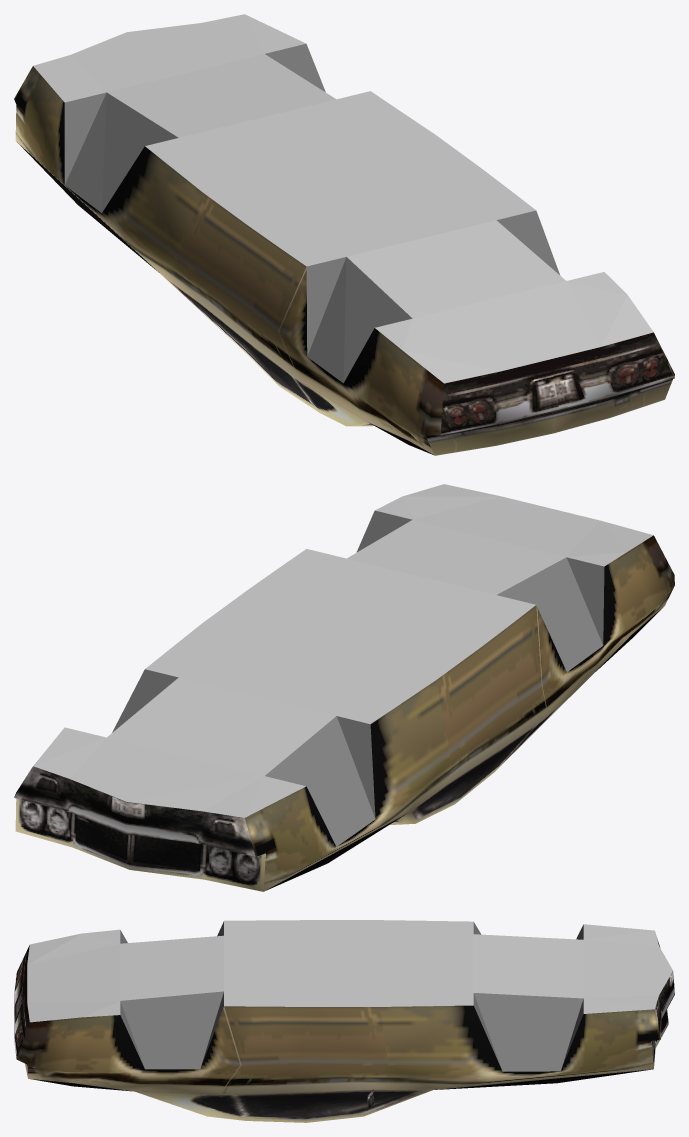
File: CHICAGO_model12_clean.obj
The picture shows the model from 3 angles, top to bottom: view 1: azimuth 30°, elevation 25°; view 2: azimuth 150°, elevation 25°; view 3: azimuth 270°, elevation 25°; orthographic projection. The views are drawn at different scales.
Visible parts, largest first — view 1: CHICAGO_model12_clean; view 2: CHICAGO_model12_clean; view 3: CHICAGO_model12_clean.
Boxes of the visible parts, <box> form: CHICAGO_model12_clean: <box>14,14,674,455</box>; CHICAGO_model12_clean: <box>14,484,674,891</box>; CHICAGO_model12_clean: <box>14,920,674,1122</box>.
Bounding box in the file's own units: 281 × 164 × 752.
